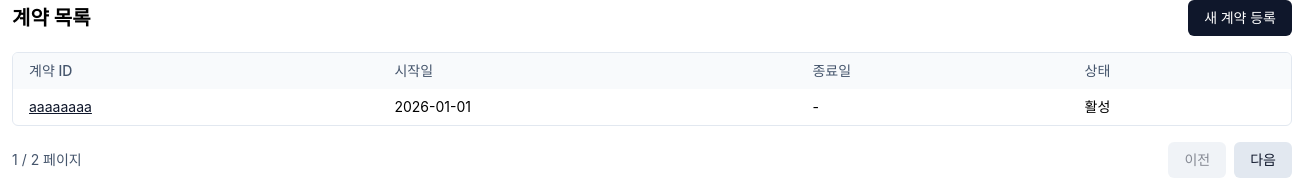
it: ContractsListPage › moves to the next page and fetches it
Expected: the link "aaaaaaaa" is shown, top-left (29, 98), bottom-right (92, 115)
What coordinates should you click on to do the following:
click the button "다음"
I would click on:
 (1263, 160)
Its box is top-left (1234, 142), bottom-right (1292, 178).
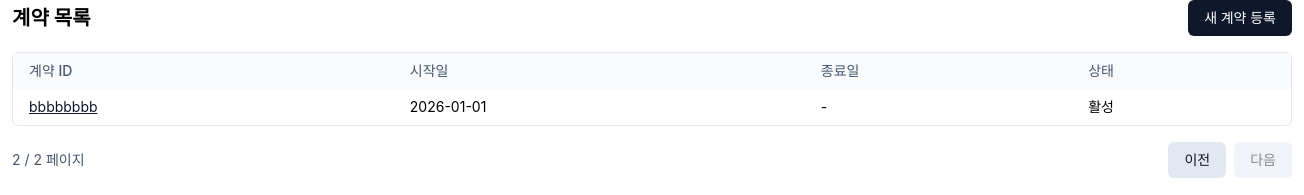
Result: the link "bbbbbbbb" is shown at top-left (29, 98), bottom-right (98, 115)
Result: the link "aaaaaaaa" is gone
